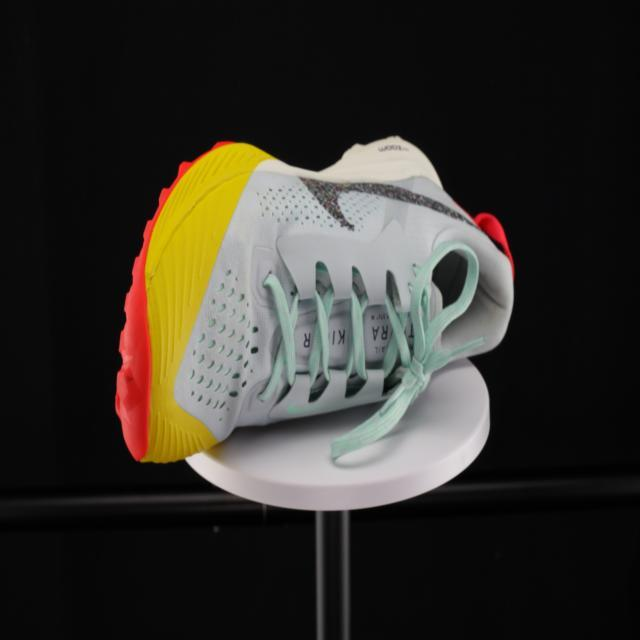shoe: (112, 134, 515, 464)
